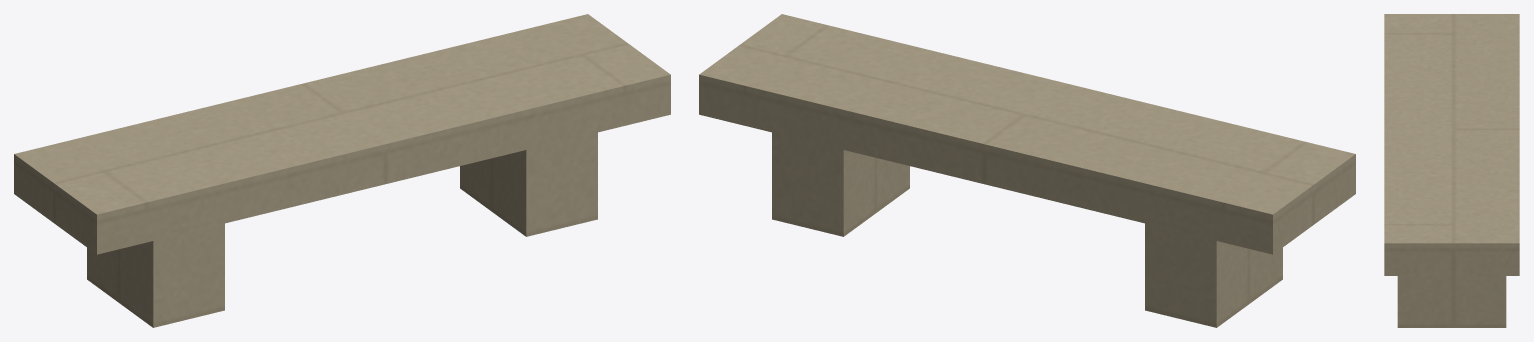
The model's file is bench.glb.
3 views of the same model, side by side, from view 1: azimuth 30°, elevation 25°; view 2: azimuth 150°, elevation 25°; view 3: azimuth 270°, elevation 25° (orthographic). The views are drawn at different scales.
Parts seen in each view (by area): view 1: Stone bench; view 2: Stone bench; view 3: Stone bench.
Boxes of the visible parts, left/top/right/bottom form: Stone bench: left=14, top=14, right=670, bottom=327; Stone bench: left=699, top=14, right=1355, bottom=327; Stone bench: left=1384, top=14, right=1519, bottom=327.
Size of the model in its own units: 2.4 by 0.54 by 0.6.
1 material, 1 textured.
